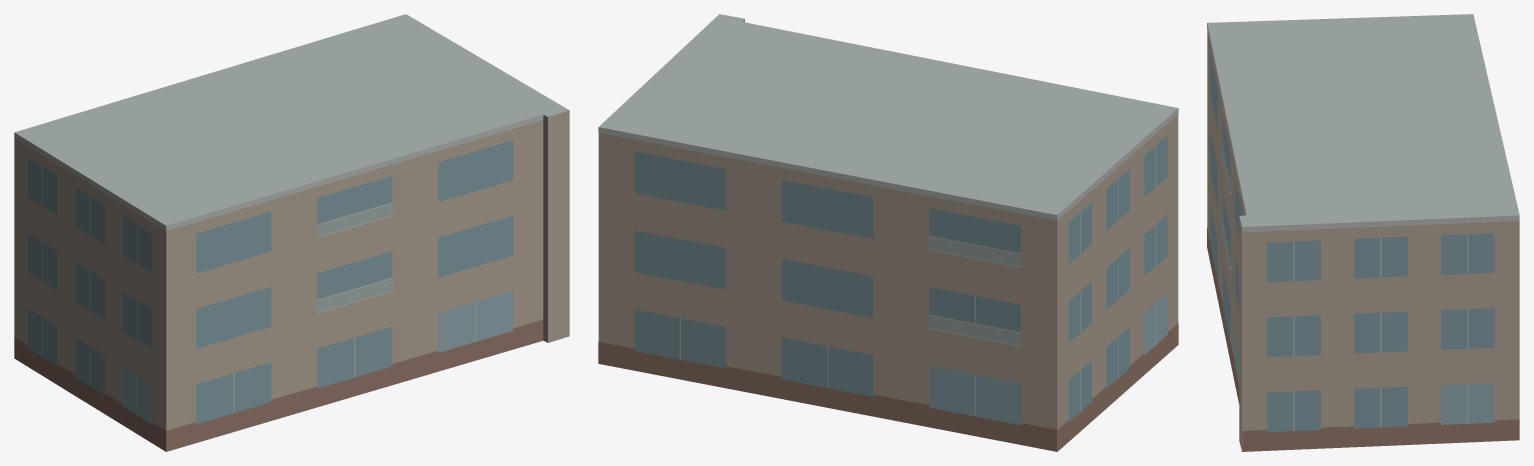
Rendered from survey-upis-32778899.glb.
3 renders of one model, left to right at view 1: azimuth 30°, elevation 25°; view 2: azimuth 150°, elevation 25°; view 3: azimuth 270°, elevation 25°, orthographic. The views are drawn at different scales.
Parts seen in each view (by area): view 1: survey-upis-32778899.tmp; view 2: survey-upis-32778899.tmp; view 3: survey-upis-32778899.tmp.
Boxes of the visible parts, box(x1,y1,x2,y2) form: survey-upis-32778899.tmp: box(14, 14, 569, 451); survey-upis-32778899.tmp: box(598, 14, 1178, 451); survey-upis-32778899.tmp: box(1207, 14, 1519, 451).
Bounding box in the file's own units: 20.74 × 10.2 × 12.86.
